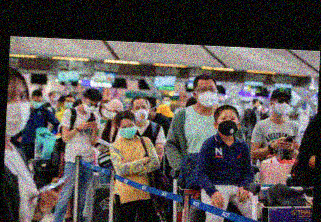with_mask: (7, 89, 32, 137), (198, 83, 218, 109), (217, 113, 239, 136), (273, 94, 292, 117), (118, 121, 137, 139), (132, 103, 150, 122), (82, 99, 100, 114), (102, 106, 117, 121), (30, 96, 43, 109), (62, 98, 76, 109), (162, 96, 171, 107), (52, 93, 59, 101)
